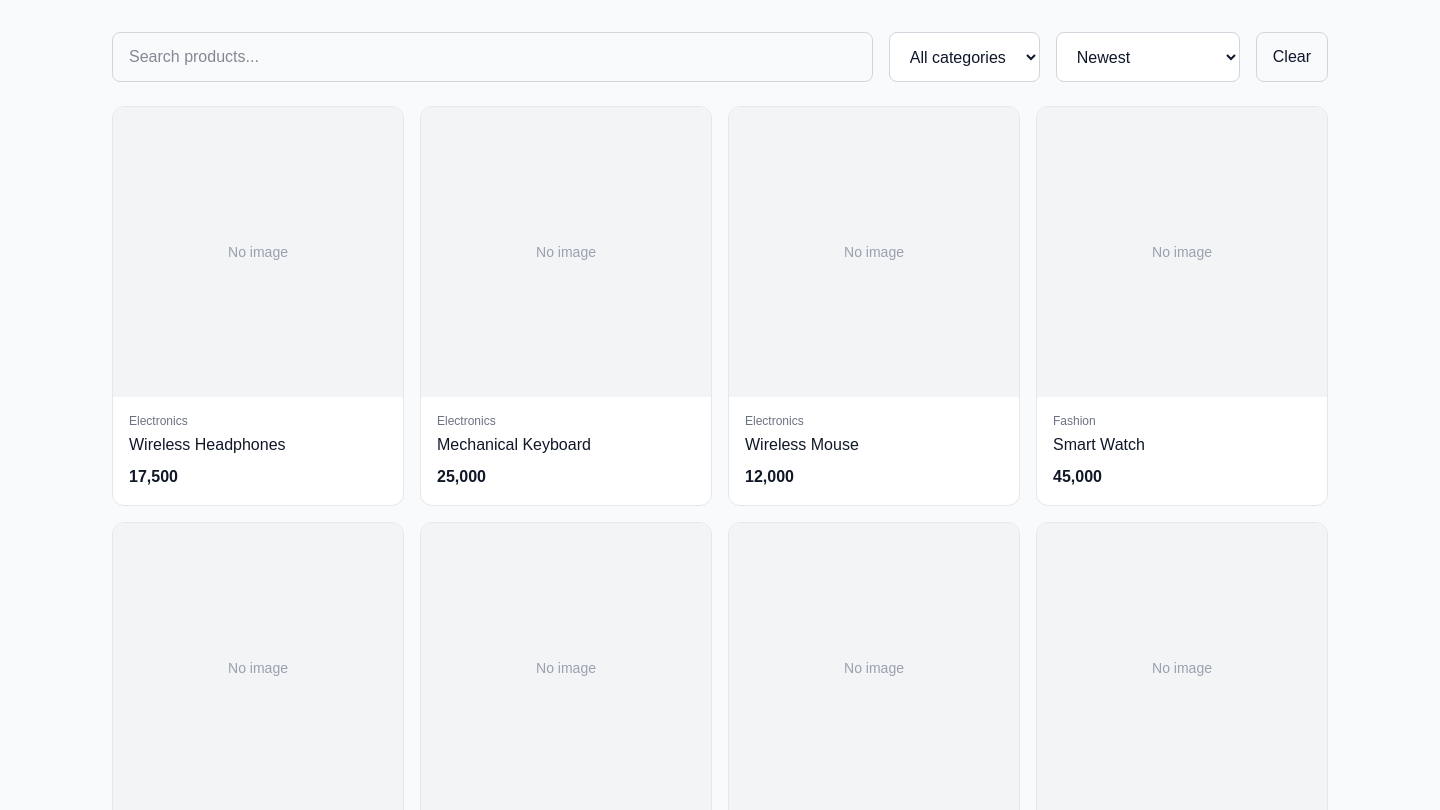
Test: ProductList › shows an empty state when no products match
The image size is (1440, 810).
Expected: the heading "Wireless Headphones" is shown, [129, 436, 286, 453]
In the search field labelled "Search products": [492, 57] box [112, 32, 873, 82], type "not-a-real-product"
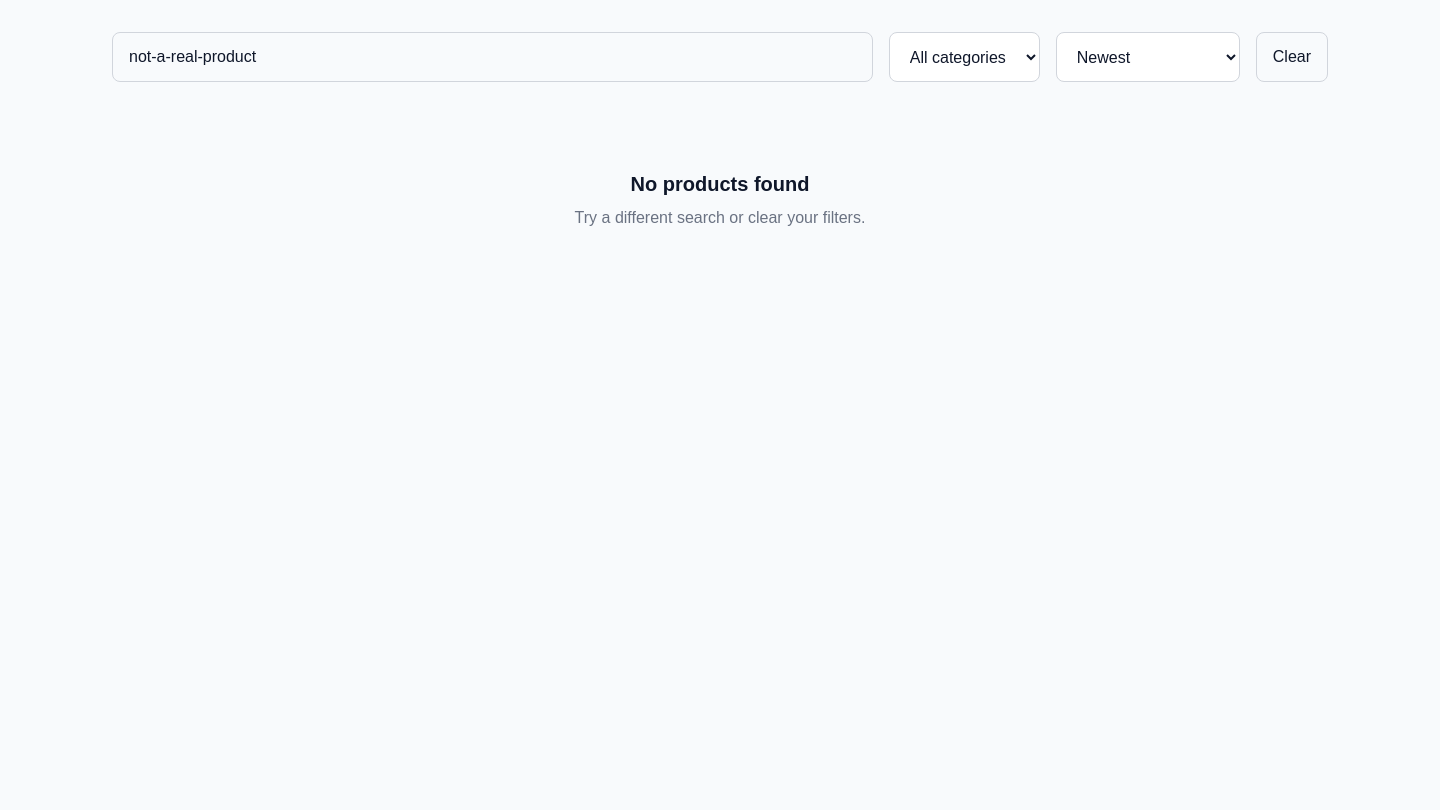
Expected: the heading "No products found" is shown, [631, 173, 810, 195]
